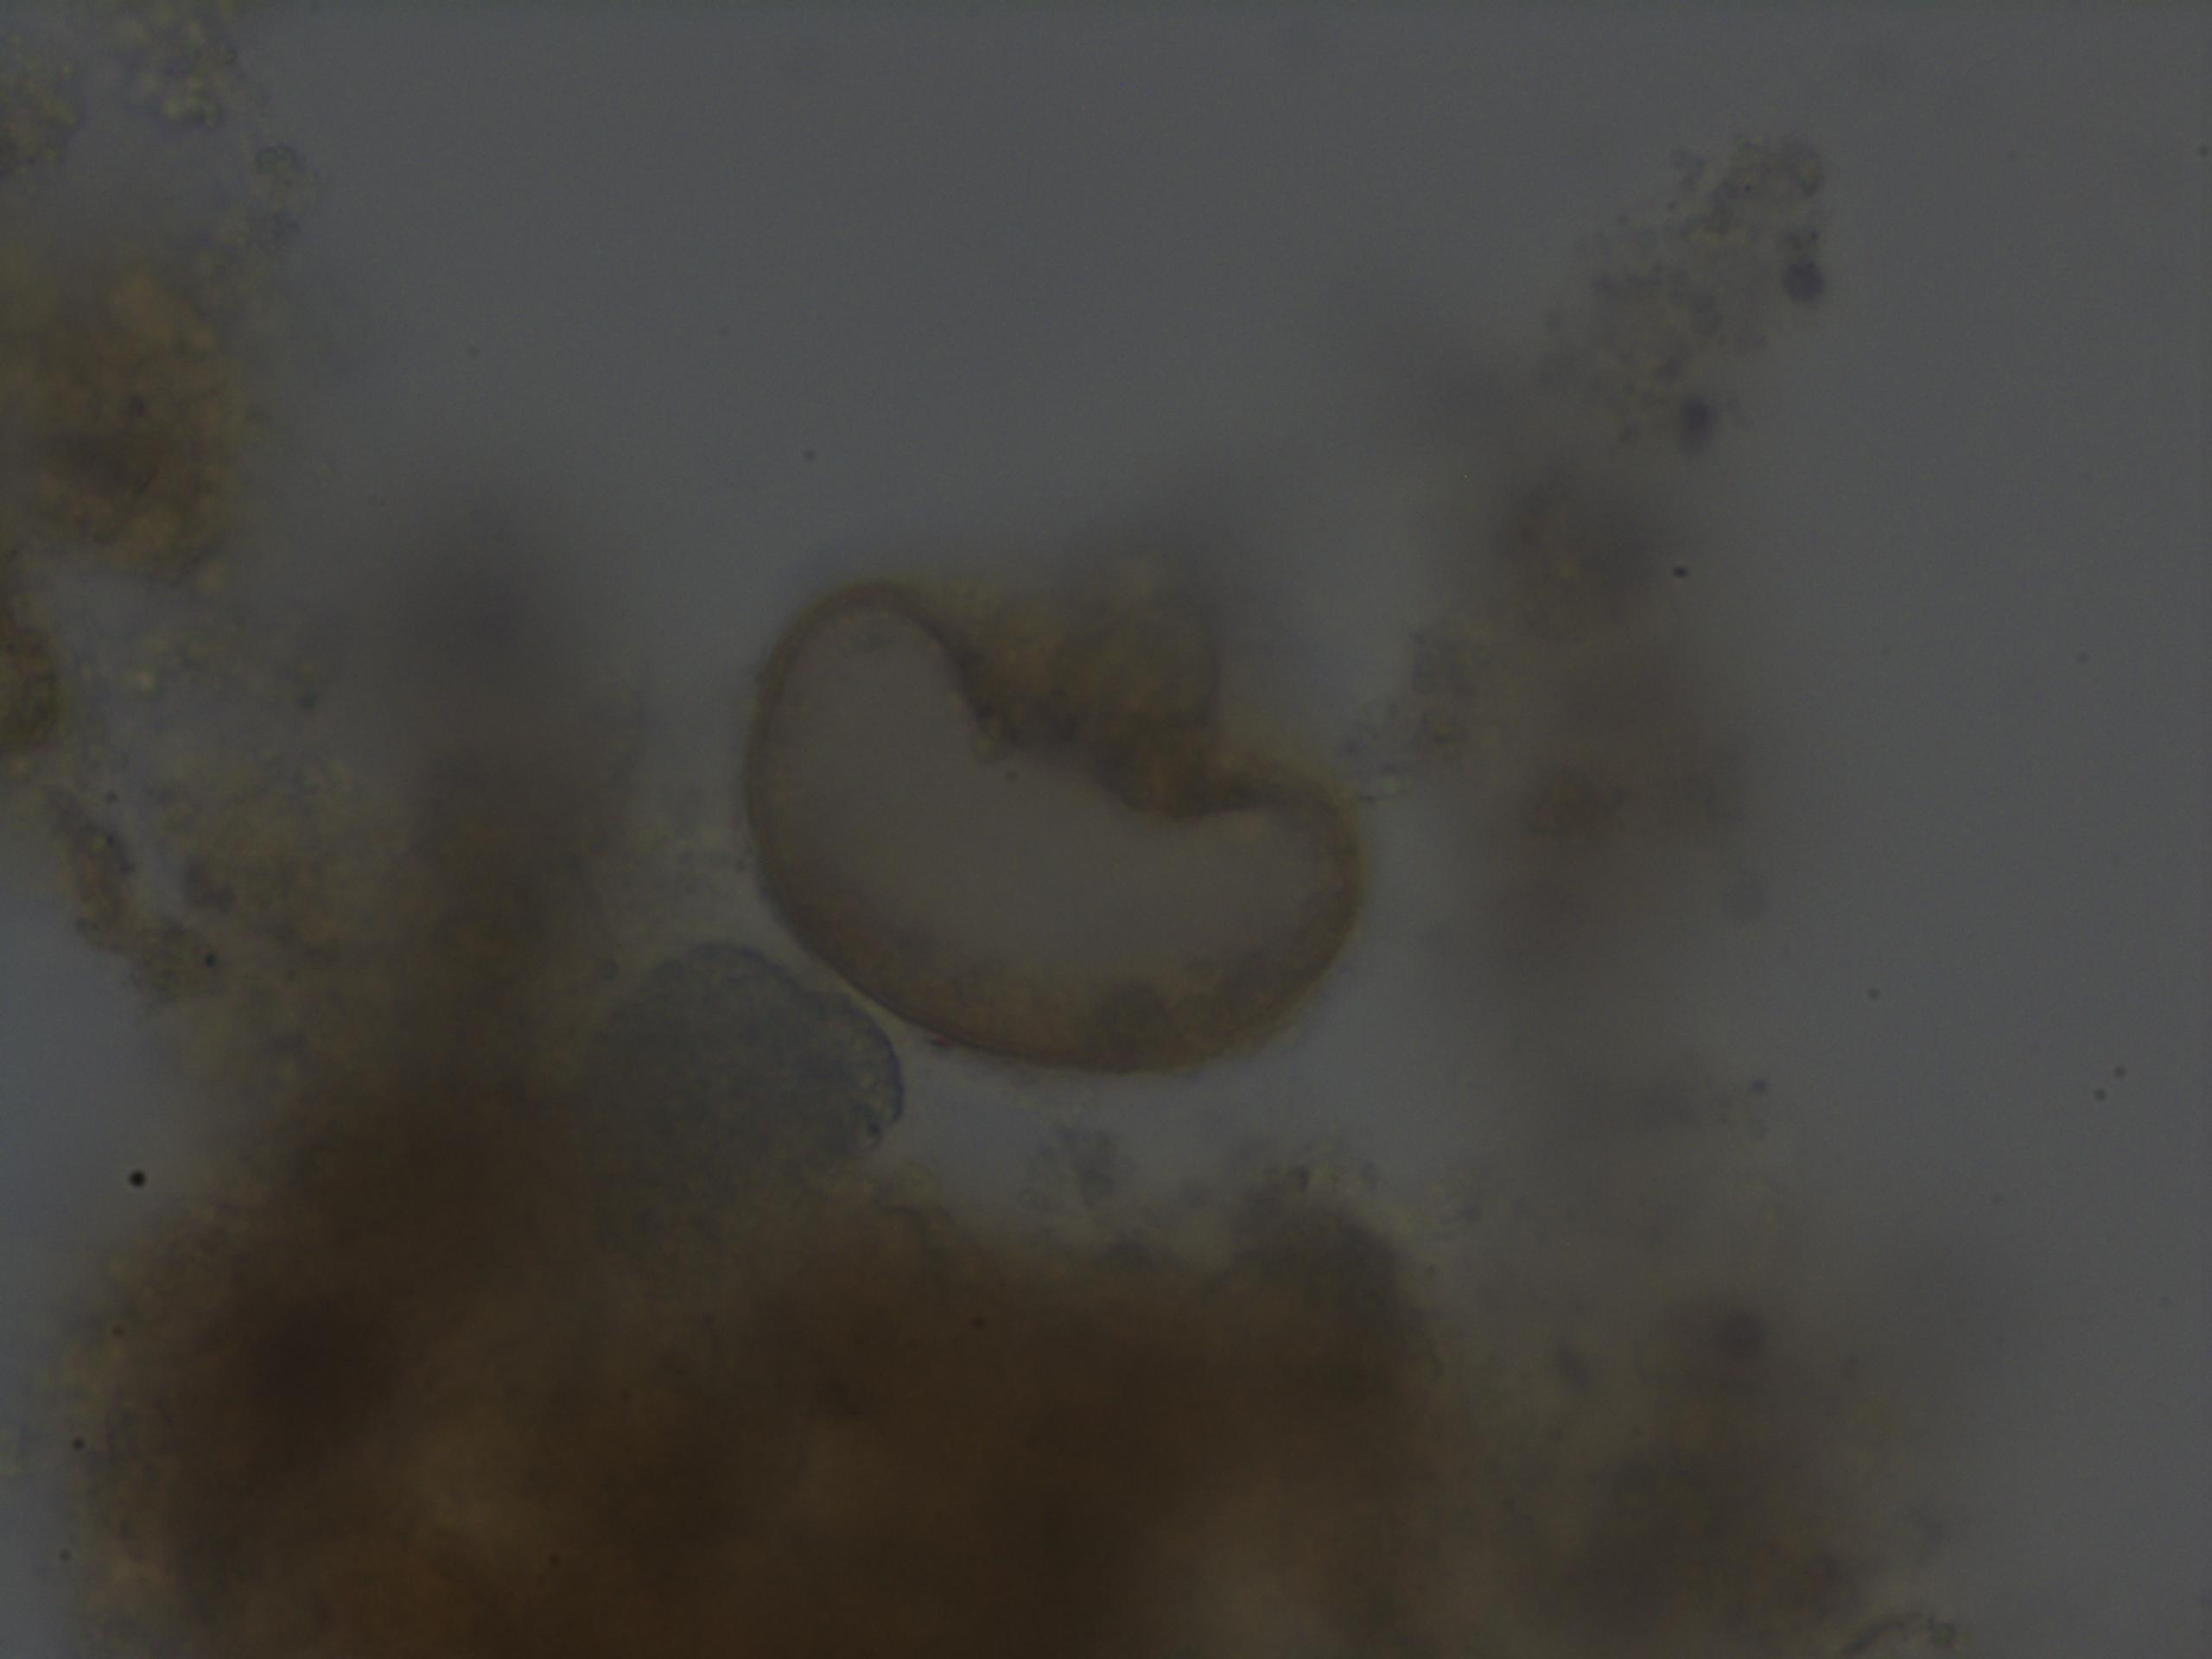protozoa: (723, 570, 1376, 1103)
